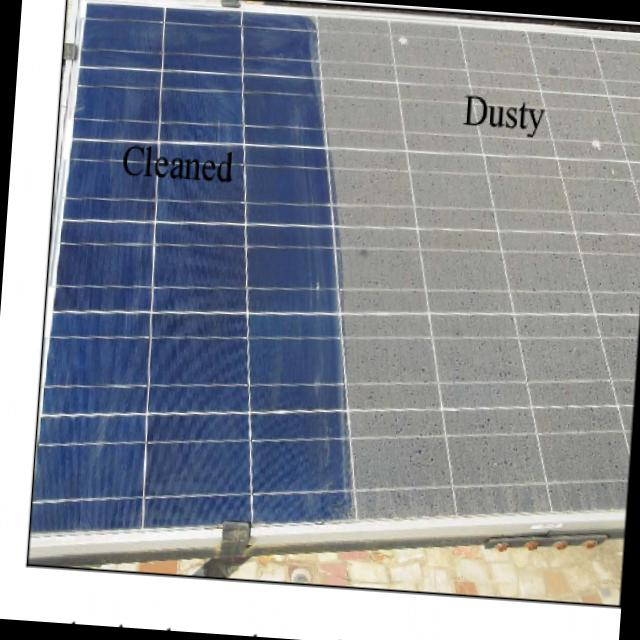faulty: (316, 27, 640, 519)
no faulty: (28, 11, 351, 545)
